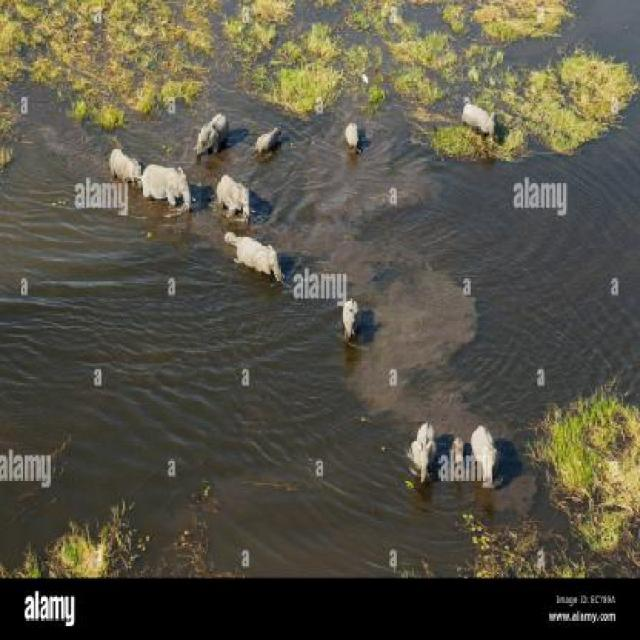elephant: (184, 96, 236, 170), (127, 163, 191, 215), (467, 407, 505, 491), (215, 238, 303, 272), (401, 412, 442, 478), (215, 167, 268, 216), (97, 138, 141, 196), (461, 87, 504, 142), (334, 288, 361, 346), (337, 108, 369, 150), (255, 120, 292, 154), (450, 427, 464, 468)
